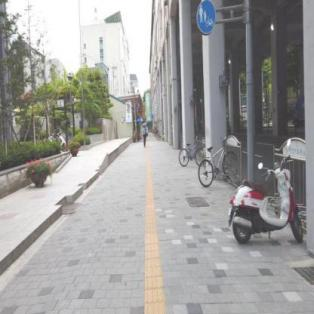Podoctatil: (141, 150, 166, 312)
